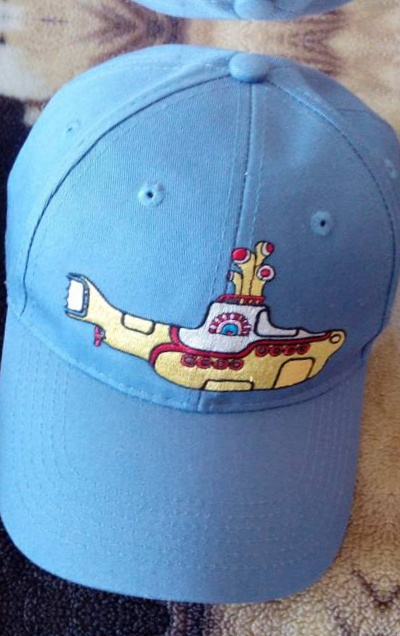Hat: (0, 38, 400, 616), (12, 0, 400, 29), (387, 71, 400, 636), (0, 626, 375, 636)
